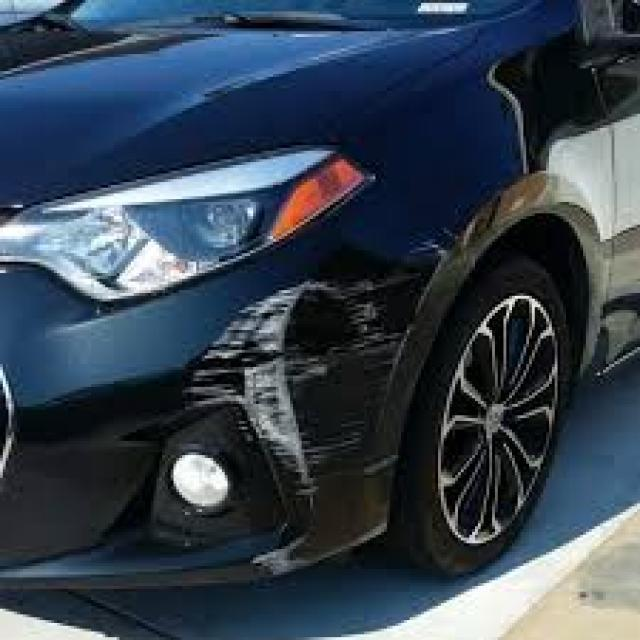dent-or-scratch: (203, 268, 409, 512)
